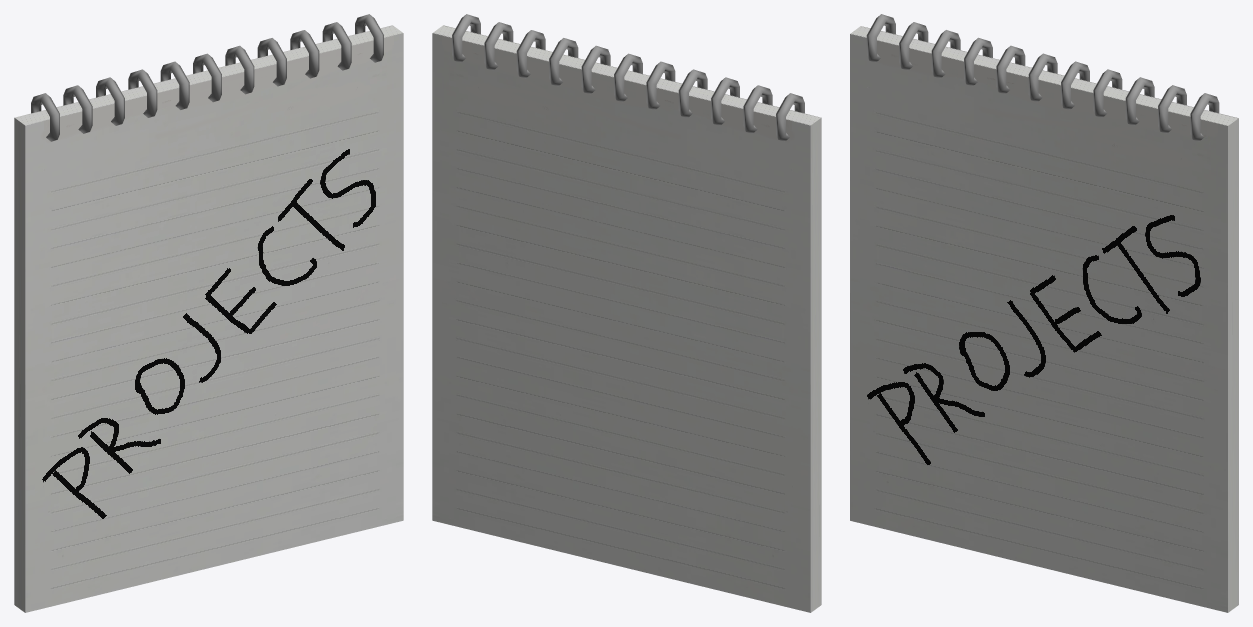
Rendered from notebook.glb.
3 views of the same model, side by side, from view 1: azimuth 30°, elevation 25°; view 2: azimuth 150°, elevation 25°; view 3: azimuth 330°, elevation 25° (orthographic).
Parts seen in each view (by area): view 1: front page, notebook, back page; view 2: back page, notebook, front page; view 3: front page, notebook, back page.
Part boxes in pixels (bbox=[...]): front page: bbox=[25, 33, 403, 612]; notebook: bbox=[14, 14, 402, 612]; back page: bbox=[14, 25, 392, 604]; back page: bbox=[432, 33, 810, 612]; notebook: bbox=[433, 14, 821, 612]; front page: bbox=[443, 25, 821, 604]; front page: bbox=[850, 33, 1228, 612]; notebook: bbox=[850, 14, 1238, 612]; back page: bbox=[861, 26, 1238, 604].
Size of the model in its own units: 0.248 by 0.3192 by 0.0274.
4 materials, 3 textured.
